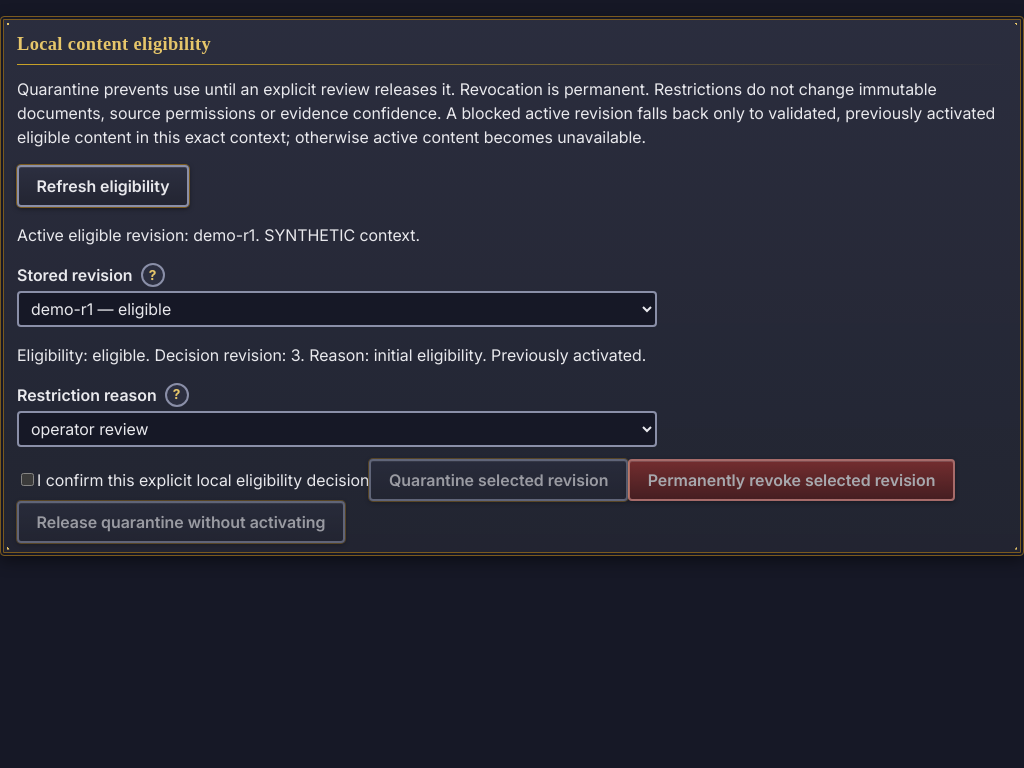
stale decision error invalidates actionable guard and shows no raw backend message
Expected: the dropdown labelled "Stored revision" is shown, [17, 291, 657, 327]
Click the checkbox at {"x": 28, "y": 479}, box [21, 473, 34, 486]
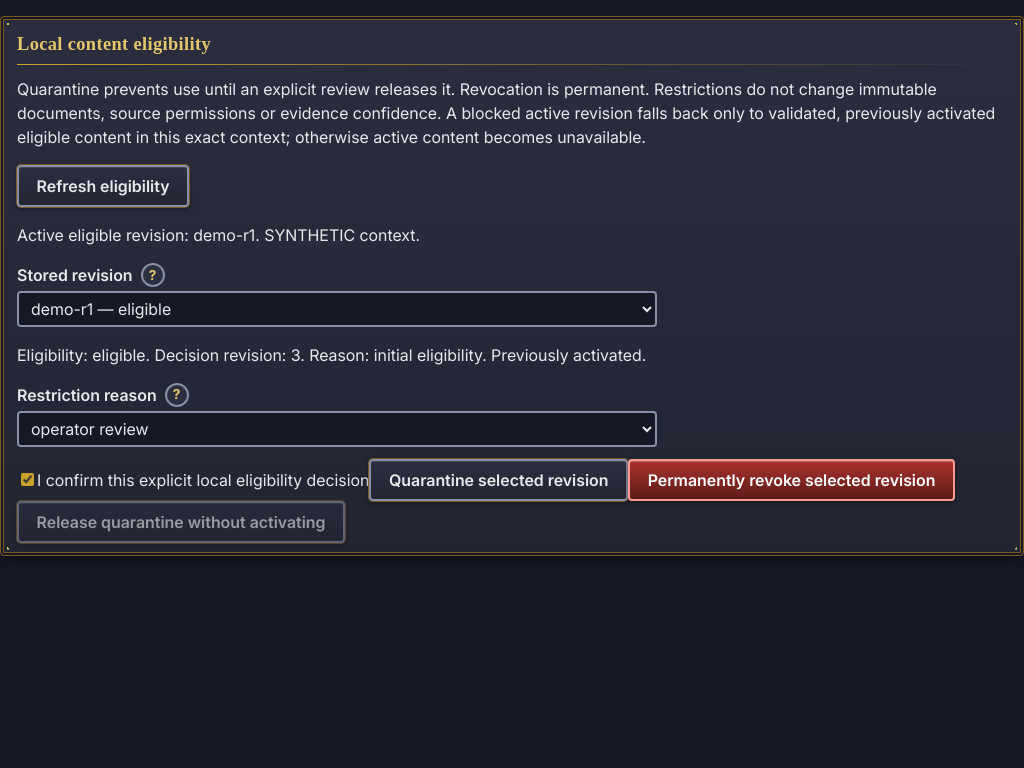
Click the button "Permanently revoke selected revision" at {"x": 792, "y": 480}, box [628, 459, 955, 501]
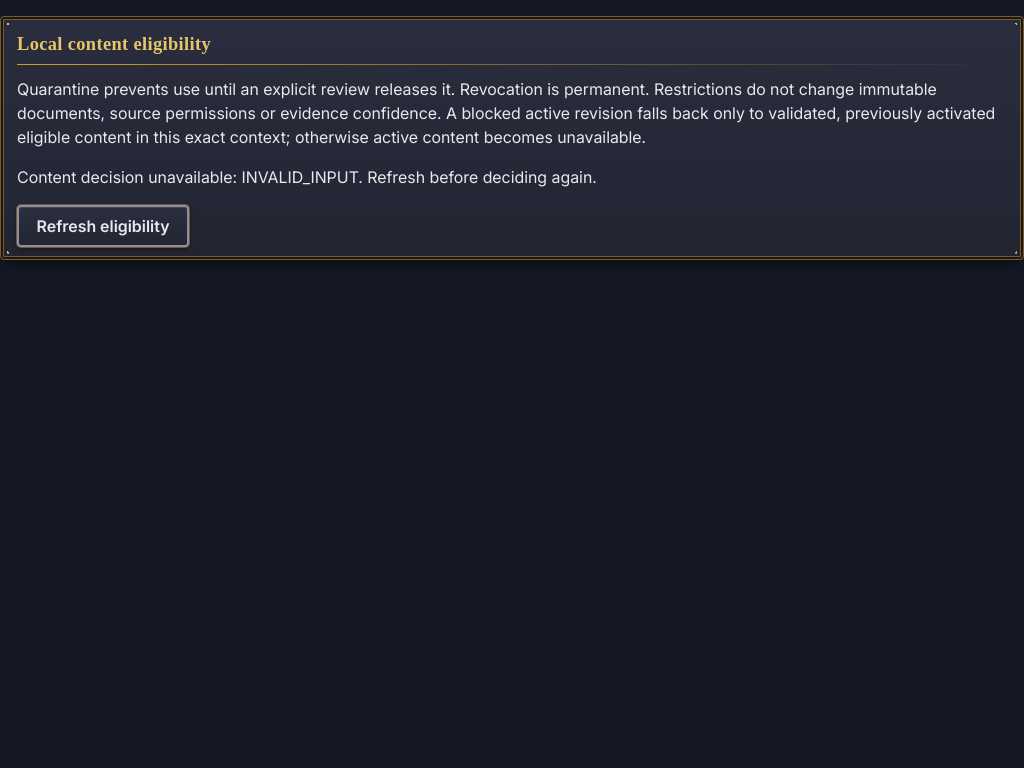
Result: the text "Content decision unavailable: INVALID_INPUT. Refresh before deciding again." is shown at [17, 167, 597, 187]
Result: the label labelled "Stored revision" is gone
